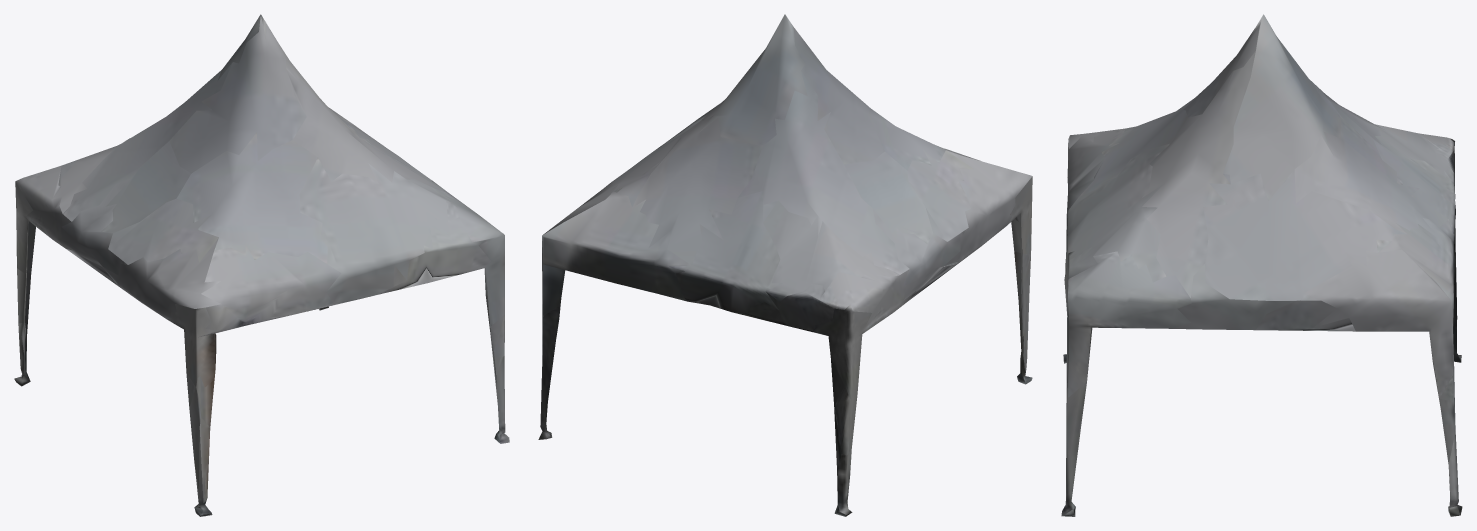
Rendered from tenda_kecil_lod2.glb.
3 renders of one model, left to right at view 1: azimuth 30°, elevation 25°; view 2: azimuth 150°, elevation 25°; view 3: azimuth 270°, elevation 25°, orthographic. The views are drawn at different scales.
Parts seen in each view (by area): view 1: tripo_node_58a47f0d; view 2: tripo_node_58a47f0d; view 3: tripo_node_58a47f0d.
Boxes of the visible parts, left/top/right/bottom form: tripo_node_58a47f0d: left=14, top=14, right=509, bottom=516; tripo_node_58a47f0d: left=538, top=14, right=1032, bottom=516; tripo_node_58a47f0d: left=1061, top=14, right=1462, bottom=516.
Size of the model in its own units: 83.61 by 101 by 86.31.
Materials: 1 (1 with a texture image).
